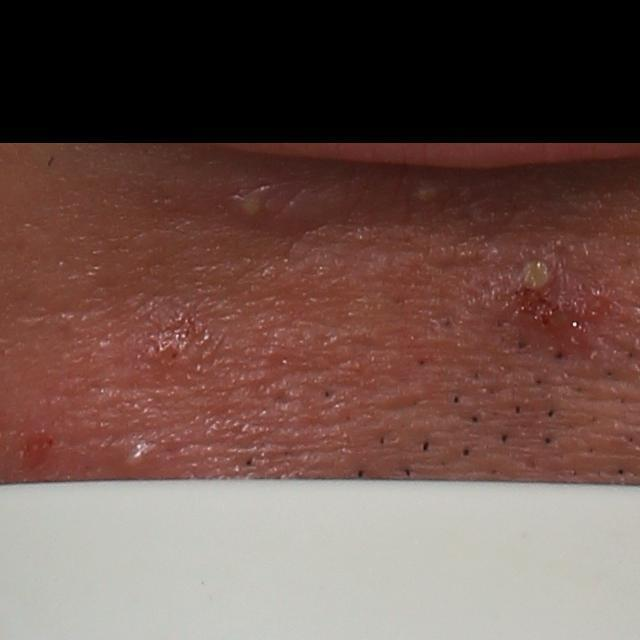pustule: (488, 231, 595, 325), (227, 175, 280, 225), (405, 174, 454, 213), (115, 439, 159, 478)
